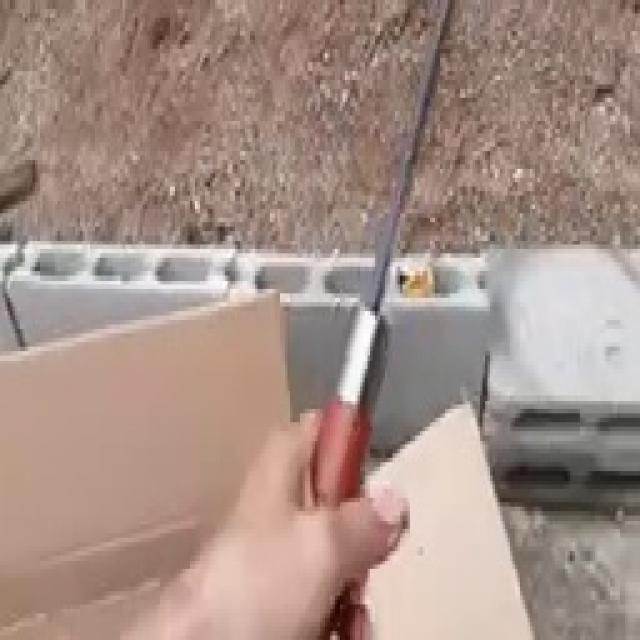eto: (281, 0, 457, 634)
